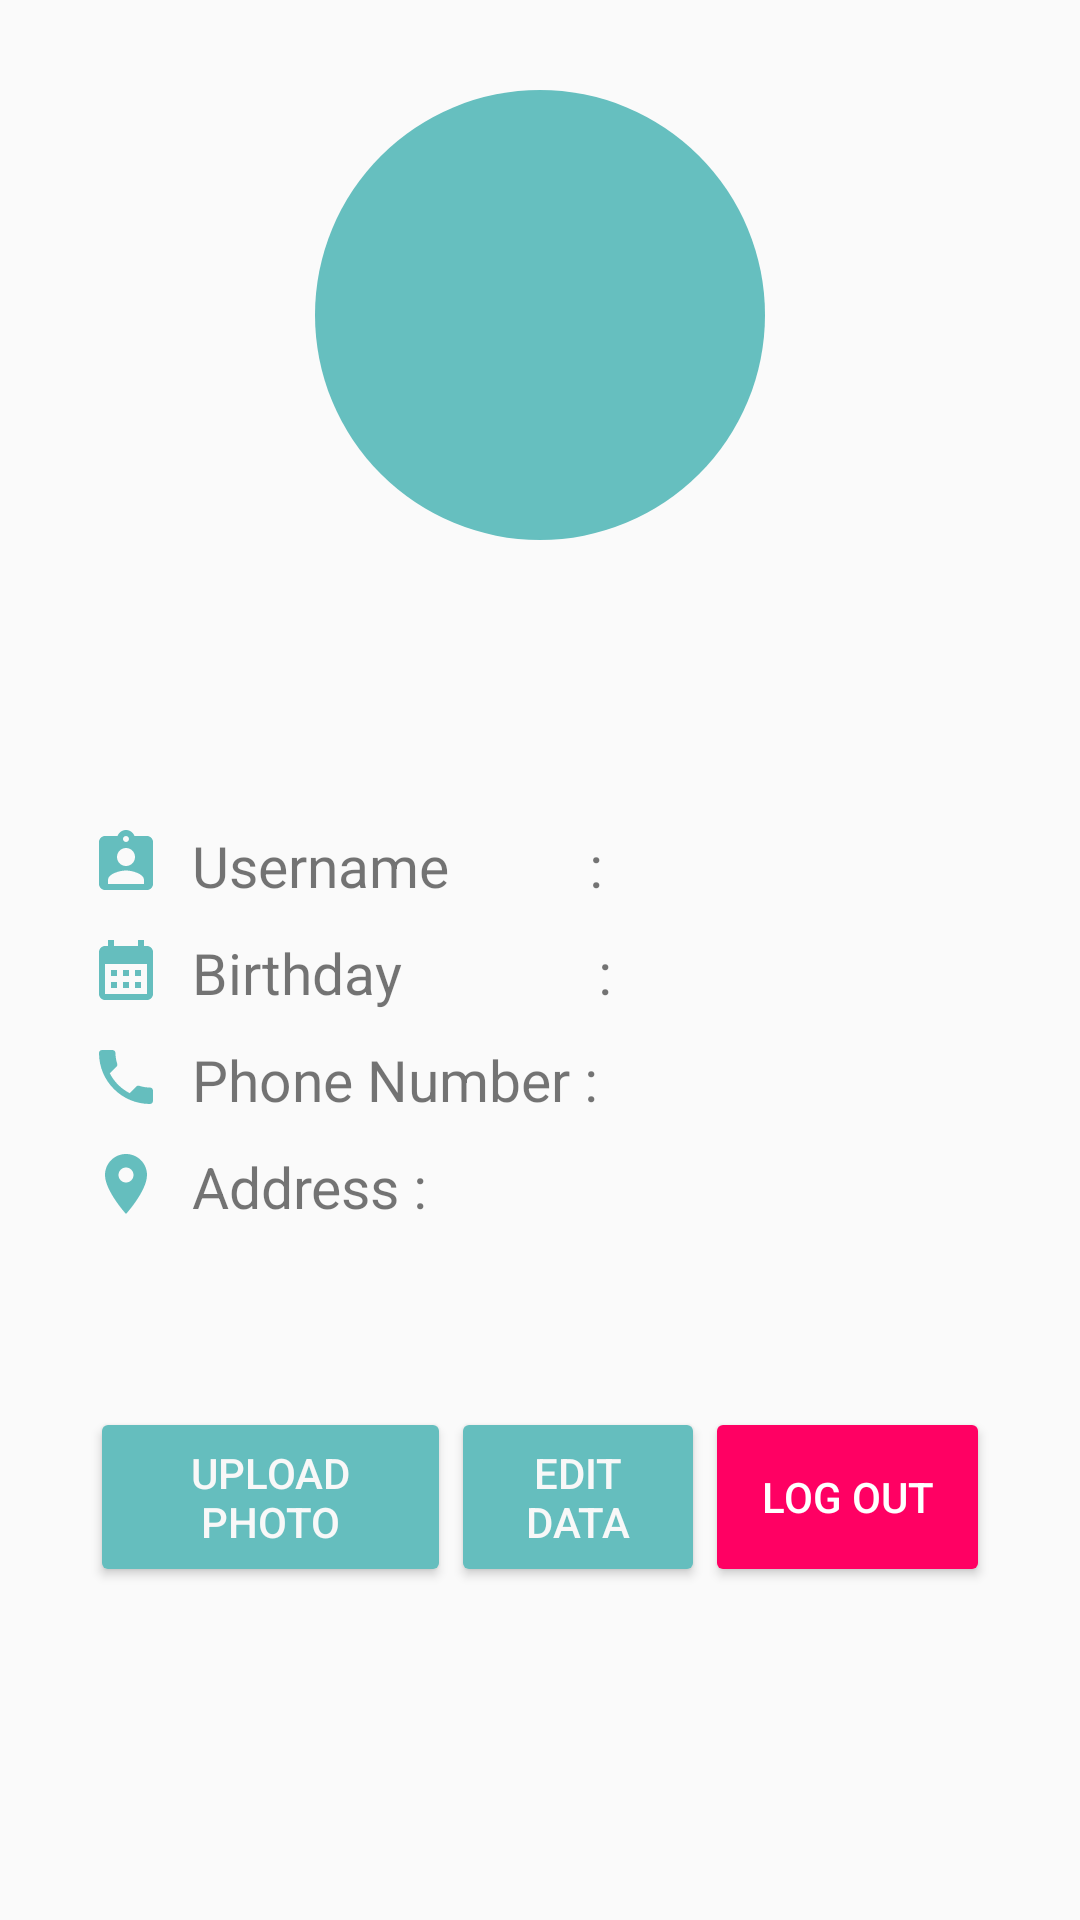

Point at icon controls on the screen. Image size 1080px x 1920px, points as (x=x, y=y).
assignment ind: (x=126, y=860)
calendar month: (x=126, y=970)
location on: (x=126, y=1184)
